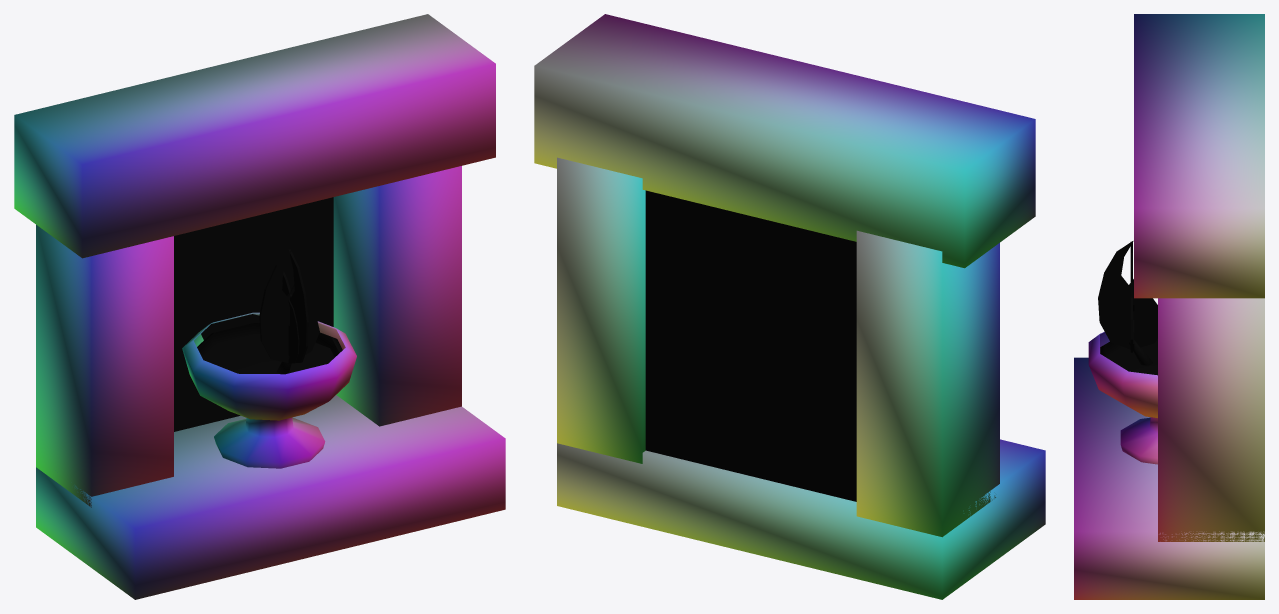
Rendered from SM_Pit_NicheLamp_Lit.fbx.
The picture shows the model from 3 angles, left to right: view 1: azimuth 30°, elevation 25°; view 2: azimuth 150°, elevation 25°; view 3: azimuth 270°, elevation 25°; orthographic projection. The views are drawn at different scales.
Parts seen in each view (by area): view 1: SM_Pit_NicheLamp_Lit; view 2: SM_Pit_NicheLamp_Lit; view 3: SM_Pit_NicheLamp_Lit.
Boxes of the visible parts, <box> form: SM_Pit_NicheLamp_Lit: <box>14,14,505,599</box>; SM_Pit_NicheLamp_Lit: <box>534,14,1045,599</box>; SM_Pit_NicheLamp_Lit: <box>1074,14,1264,599</box>.
Size of the model in its own units: 0.5744 by 0.5544 by 0.2384.
